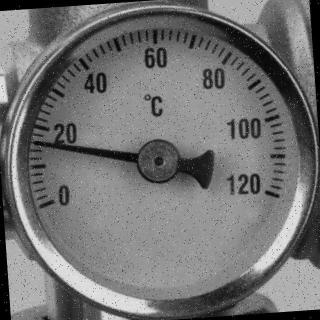gauge: (0, 0, 320, 320), (134, 137, 182, 185), (252, 172, 286, 214), (37, 189, 67, 217), (31, 134, 49, 152)
